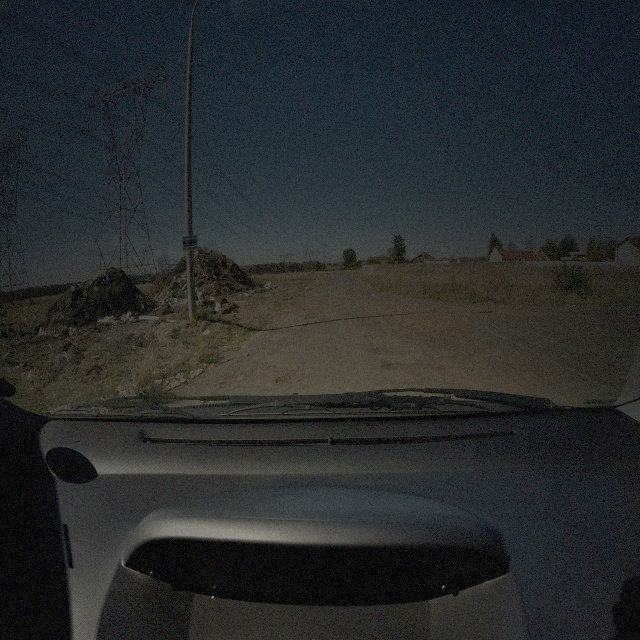pothole: (383, 361, 434, 376), (273, 368, 305, 387), (305, 310, 324, 322), (363, 330, 382, 339)
